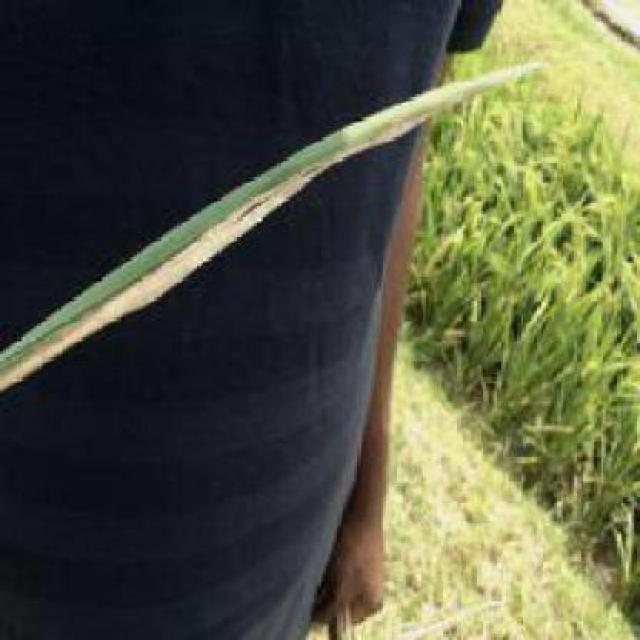Brown_Spot: (0, 5, 558, 138), (1, 161, 339, 374), (0, 327, 85, 501)
